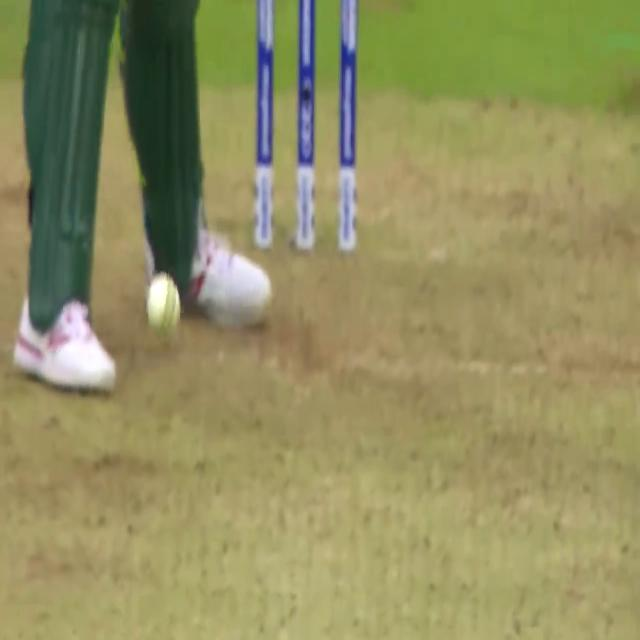ball: (137, 266, 186, 346)
